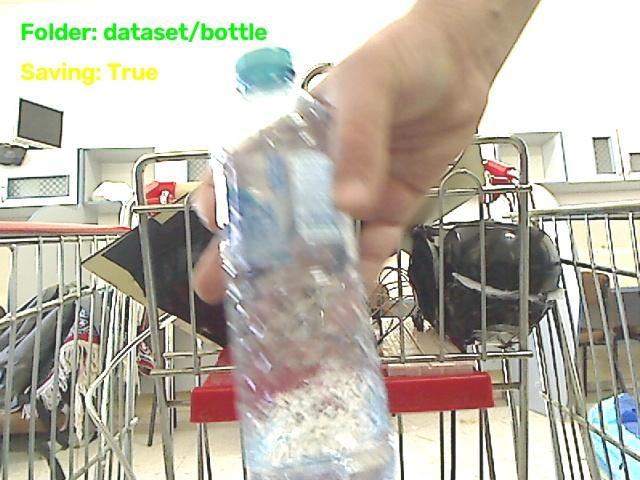Bottle: (218, 48, 393, 479)
